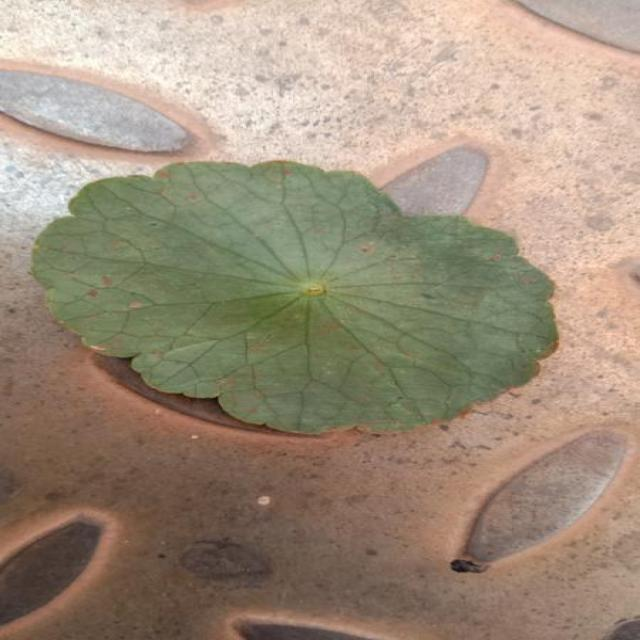bhrami: (33, 161, 557, 433)
